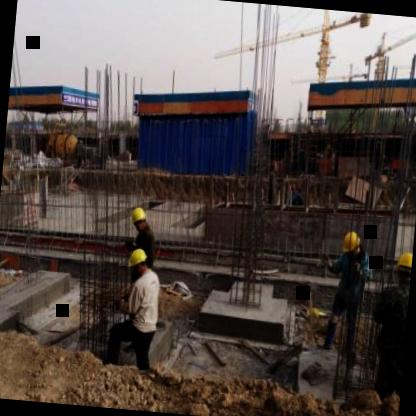helmet: (122, 246, 152, 282), (390, 247, 414, 290), (338, 228, 367, 262), (130, 202, 152, 233)
